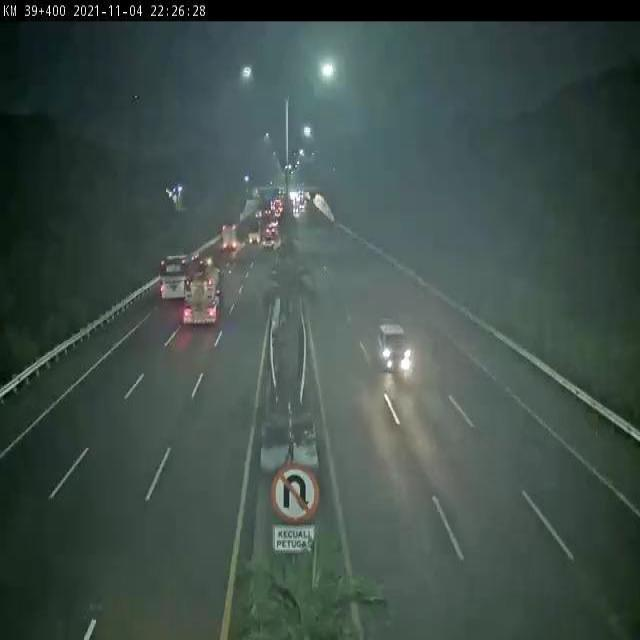ARABA: (376, 321, 417, 380), (260, 233, 277, 251)
KAMYONET: (247, 220, 265, 247)
OTOBUS: (160, 252, 193, 301)
TIR: (183, 261, 226, 323), (220, 226, 241, 250)
